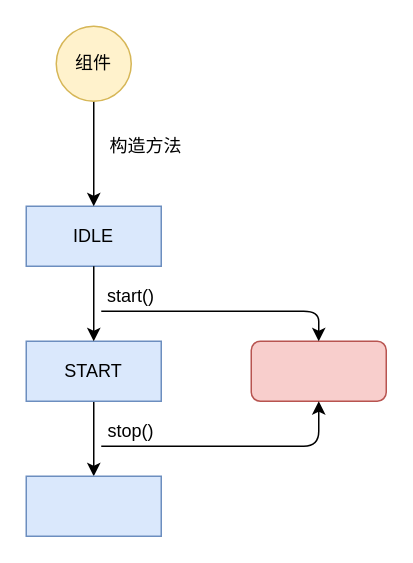
This 413x563 diagram has some shape labels left out. The shapes that lost their labels are listed below. From the top down, each one's box as (x1, y1, x2, y2) in pixels, then its label:
(250, 340, 386, 401): ERROR
(25, 475, 161, 536): STOP
